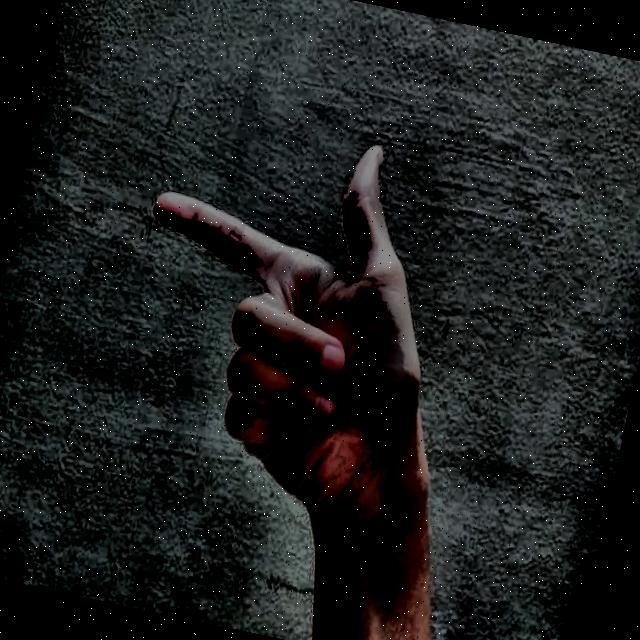Tho: (65, 40, 554, 576)
